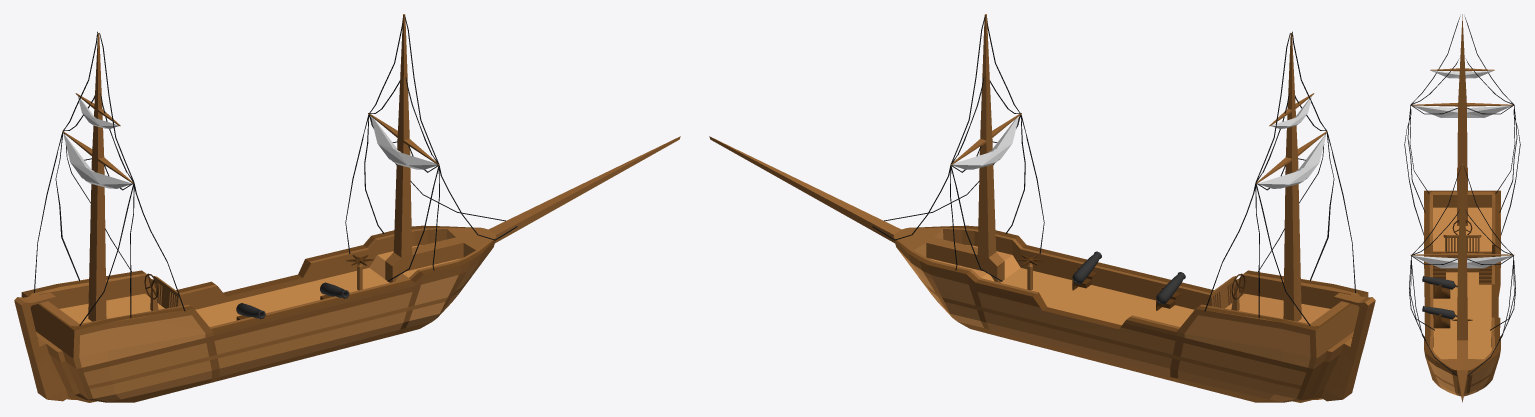
File: Ship.fbx
3 renders of one model, left to right at view 1: azimuth 30°, elevation 25°; view 2: azimuth 150°, elevation 25°; view 3: azimuth 270°, elevation 25°, orthographic. The views are drawn at different scales.
Visible parts, largest first — view 1: Ship; view 2: Ship; view 3: Ship.
Part boxes in pixels (box(x1,y1,x2,y2)): Ship: box(14, 14, 680, 402); Ship: box(709, 14, 1375, 402); Ship: box(1404, 14, 1520, 402).
Size of the model in its own units: 690 by 144 by 364.
1 material, 1 textured.
